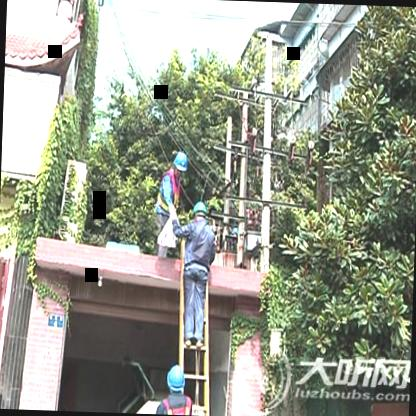helmet: (166, 362, 188, 398), (168, 148, 192, 179), (190, 198, 210, 223)
